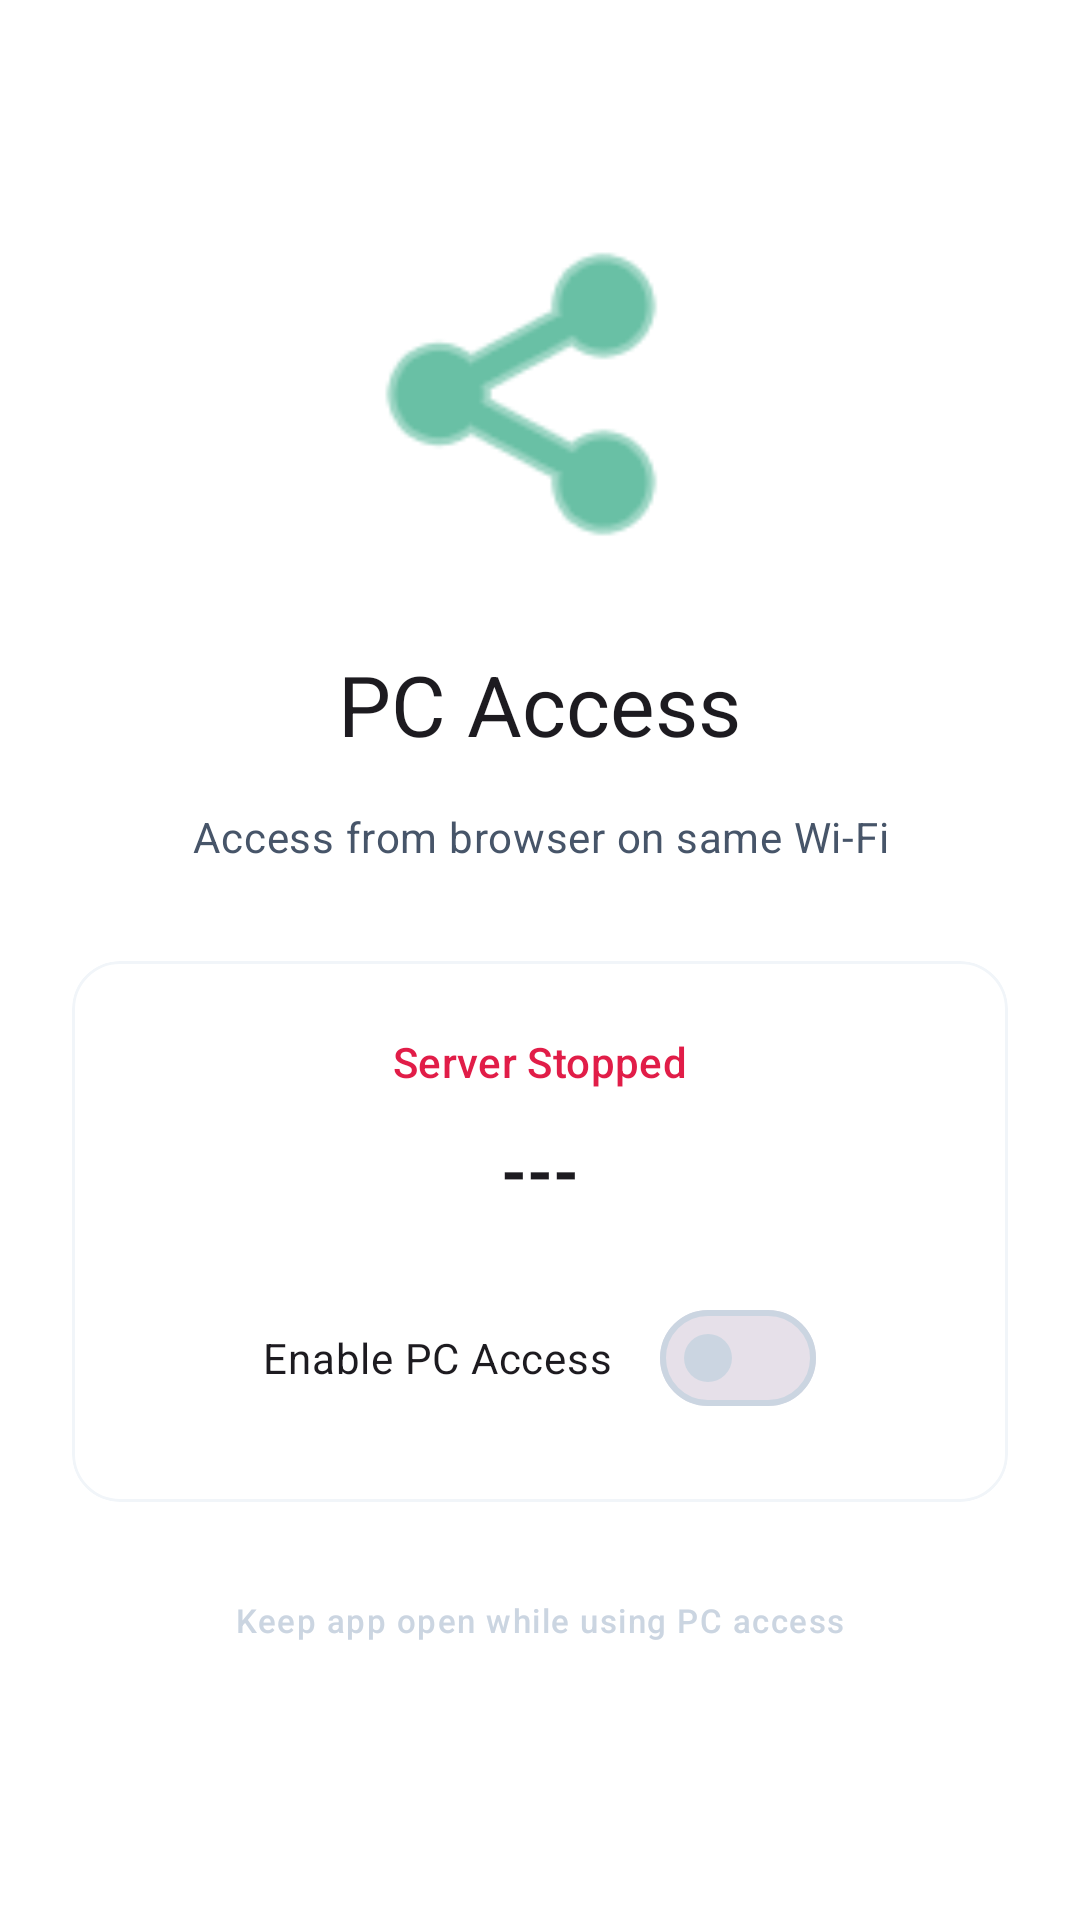

Where to tap for icons on this 1080px x 1920px app screen, as (x,y):
share: (521,394)
